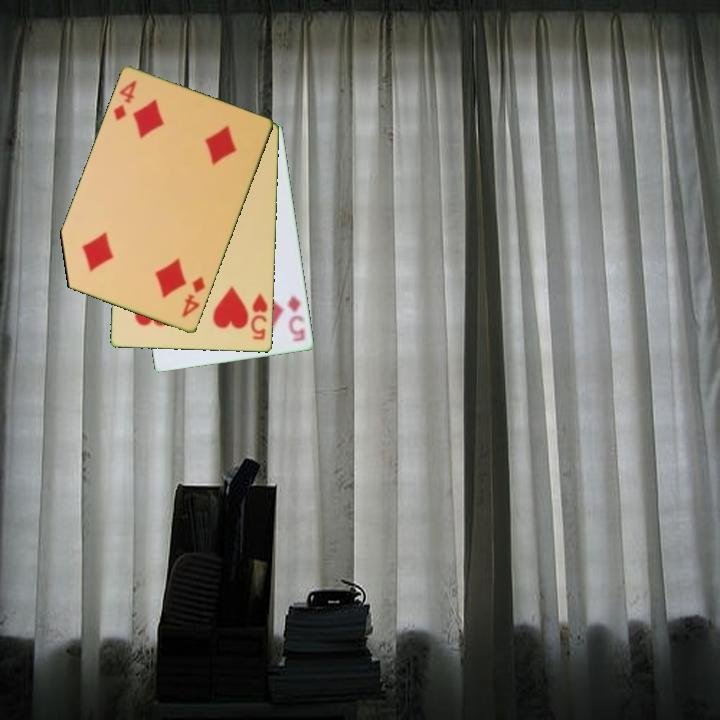4d: (178, 274, 208, 321), (110, 77, 140, 124)
5d: (284, 293, 308, 345)
5h: (248, 290, 271, 343)
